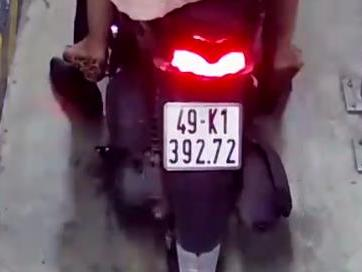num_plate: (161, 100, 244, 173)
